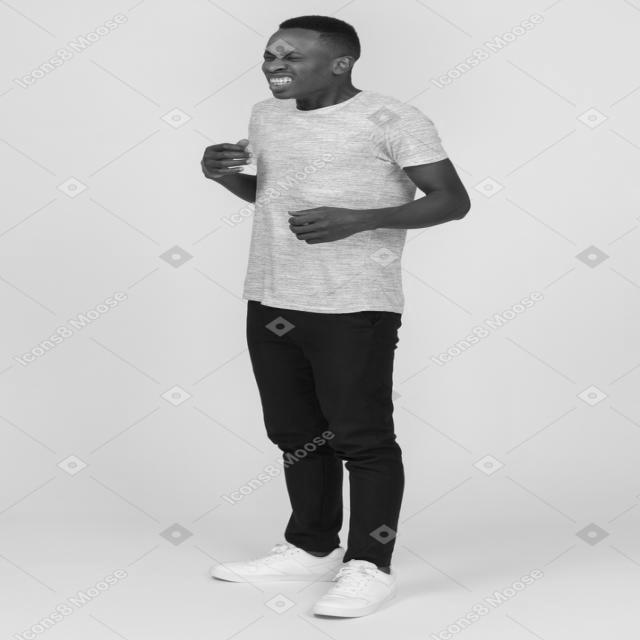real: (257, 19, 361, 104), (261, 50, 321, 70)
